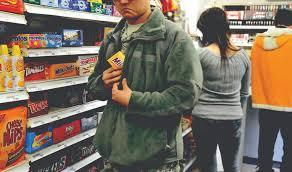shoplifting: (86, 41, 166, 117)
